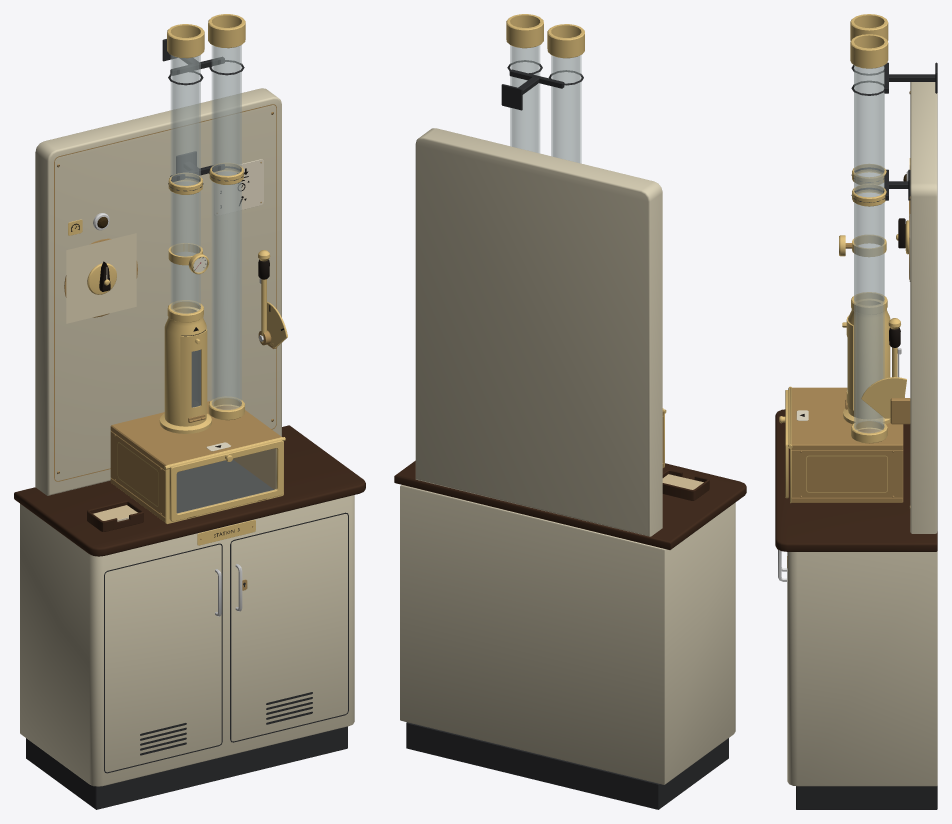
Rendered from tube_station.glb.
The picture shows the model from 3 angles, left to right: view 1: azimuth 30°, elevation 25°; view 2: azimuth 150°, elevation 25°; view 3: azimuth 270°, elevation 25°; orthographic projection.
Parts seen in each view (by area): view 1: station_body, riser_glass, IA_receive_tray, tray_door, dest_ring, IA_send_port, port_flap, IA_card_tray, IA_dest_dial; view 2: station_body, riser_glass, IA_card_tray; view 3: station_body, IA_receive_tray, riser_glass, IA_send_port, port_flap, tray_door, IA_send_lever, IA_dest_dial.
Part boxes in pixels (x1,y1,x2,y2): station_body: (14,14,365,809); riser_glass: (171,45,241,409); IA_receive_tray: (110,401,285,524); tray_door: (169,440,283,521); dest_ring: (66,233,136,323); IA_send_port: (159,306,211,433); port_flap: (180,329,207,422); IA_card_tray: (87,500,143,531); IA_dest_dial: (87,261,116,294); station_body: (394,14,746,809); riser_glass: (510,45,581,163); IA_card_tray: (662,469,709,500); station_body: (775,14,937,809); IA_receive_tray: (788,386,903,503); riser_glass: (854,65,884,432); IA_send_port: (843,299,890,424); port_flap: (842,315,853,410); tray_door: (779,390,788,498); IA_send_lever: (888,318,900,364); IA_dest_dial: (896,218,908,254).
Size of the model in its own units: 0.94 by 2.35 by 0.475.
